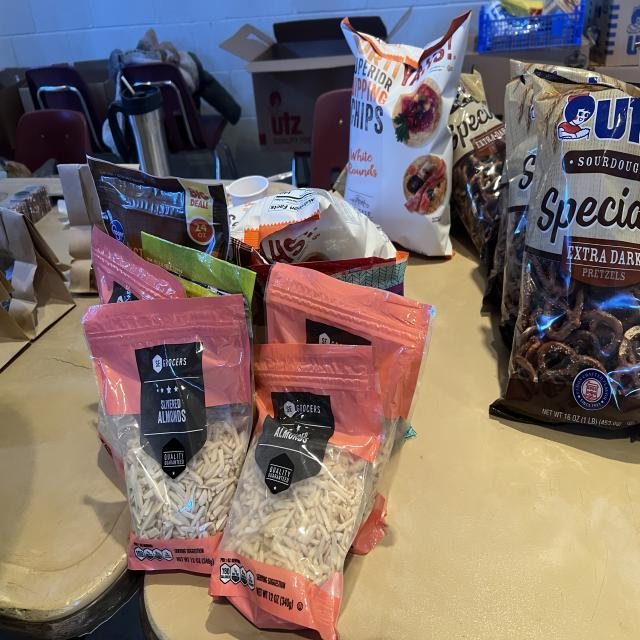Snack: (504, 70, 640, 428), (341, 12, 470, 257), (449, 73, 505, 267), (500, 72, 538, 347)
